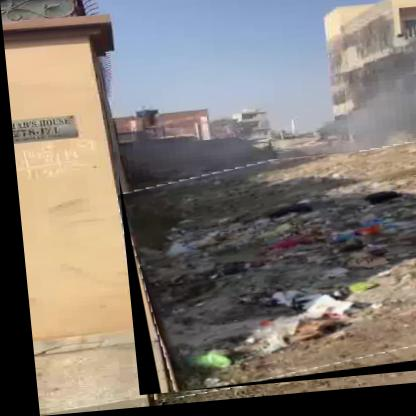Garbage: (115, 153, 416, 399)
